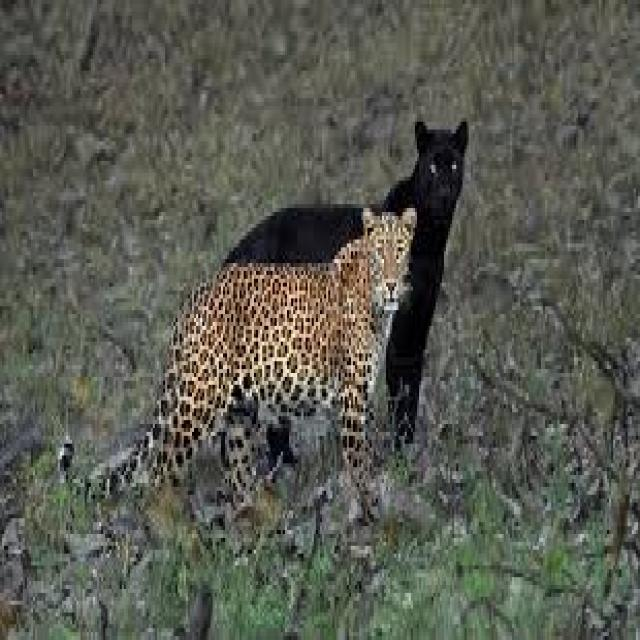Jaguar: (52, 185, 423, 526), (210, 83, 477, 471)
